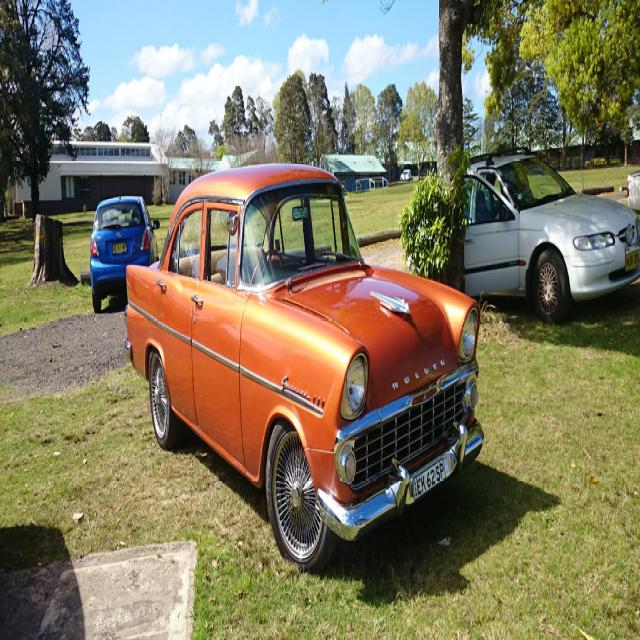car: (125, 164, 482, 571)
